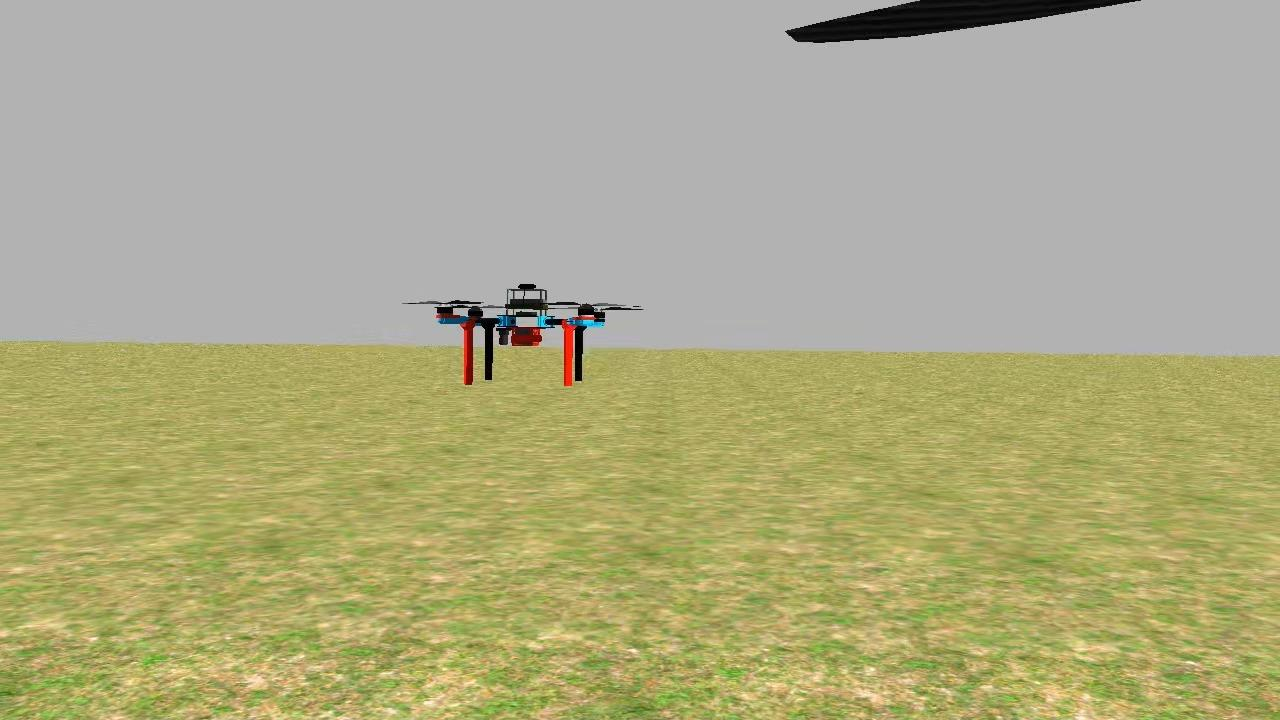UAV: (429, 272, 611, 395)
